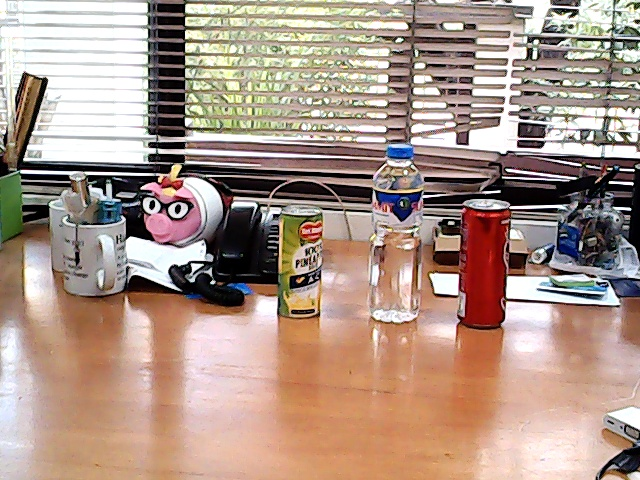Cola: (449, 196, 520, 337)
Pine Juice: (271, 198, 331, 323)
Summit Water: (360, 136, 435, 328)
